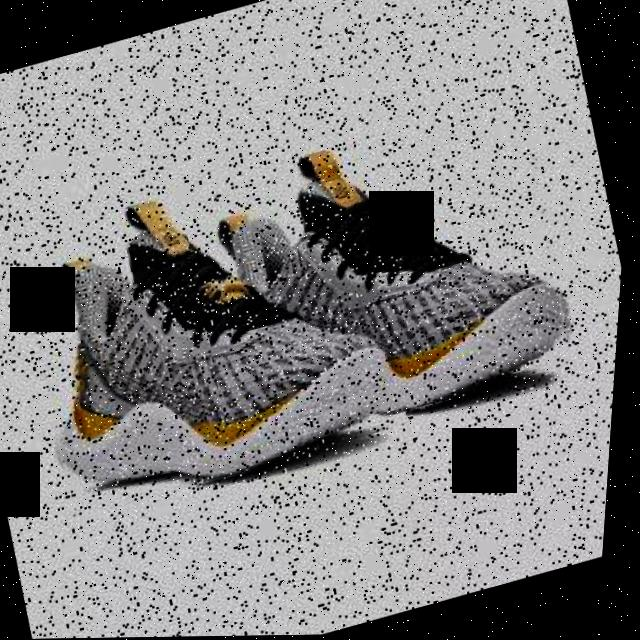shoe: (0, 144, 430, 524), (166, 94, 600, 463)
